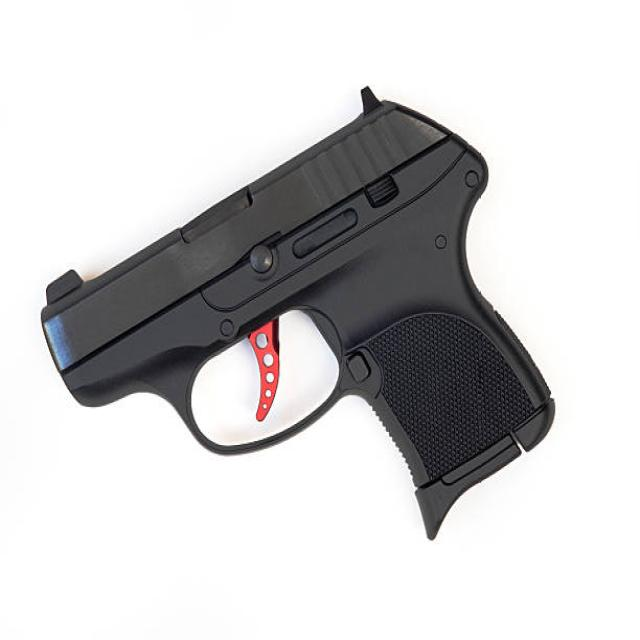pistol: (36, 77, 562, 550)
